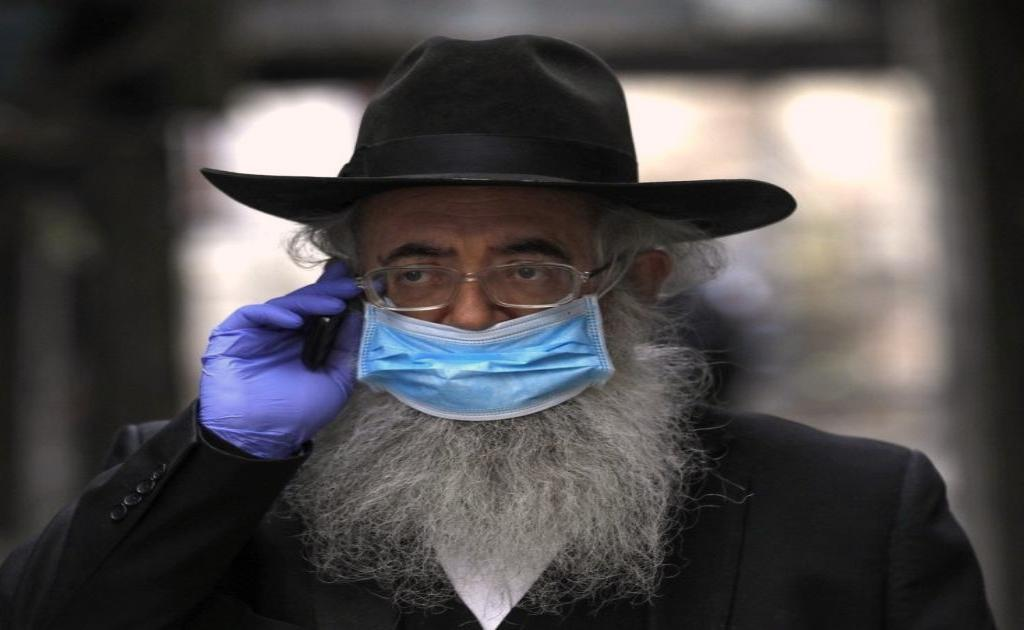mask_weared_incorrect: (334, 192, 666, 427)
